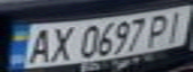0: (75, 21, 100, 59)
6: (97, 20, 118, 56)
7: (127, 16, 151, 51)
9: (112, 18, 136, 54)
A: (21, 26, 57, 65)
I: (160, 7, 193, 43)
P: (145, 11, 175, 47)
X: (45, 24, 78, 63)
